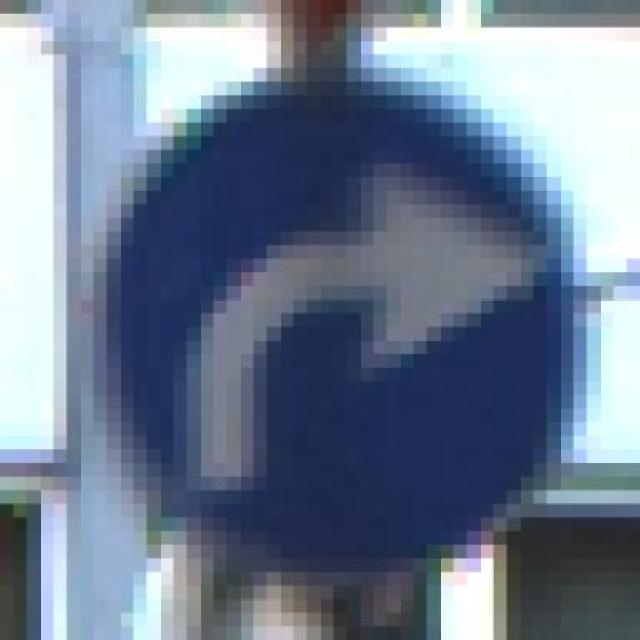Turn right ahead: (106, 68, 614, 586)
